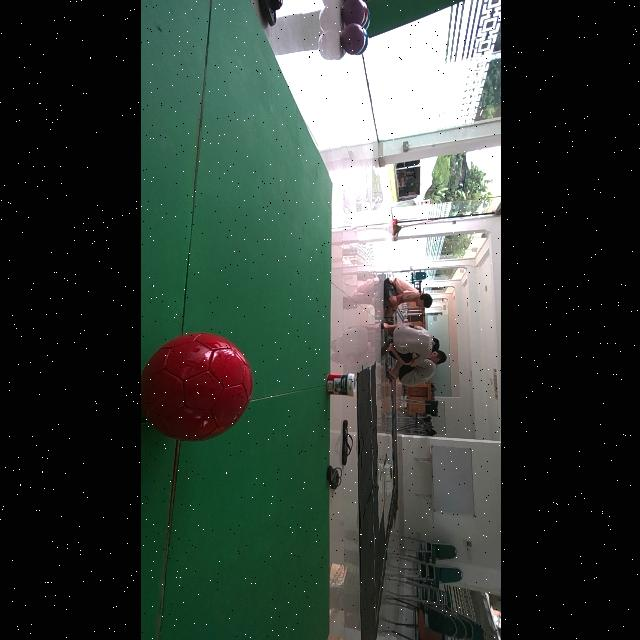R: (141, 333, 252, 441)
